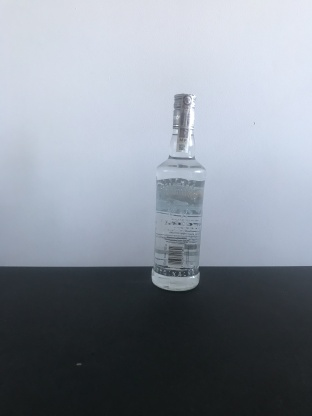nakretka: (170, 88, 198, 131)
